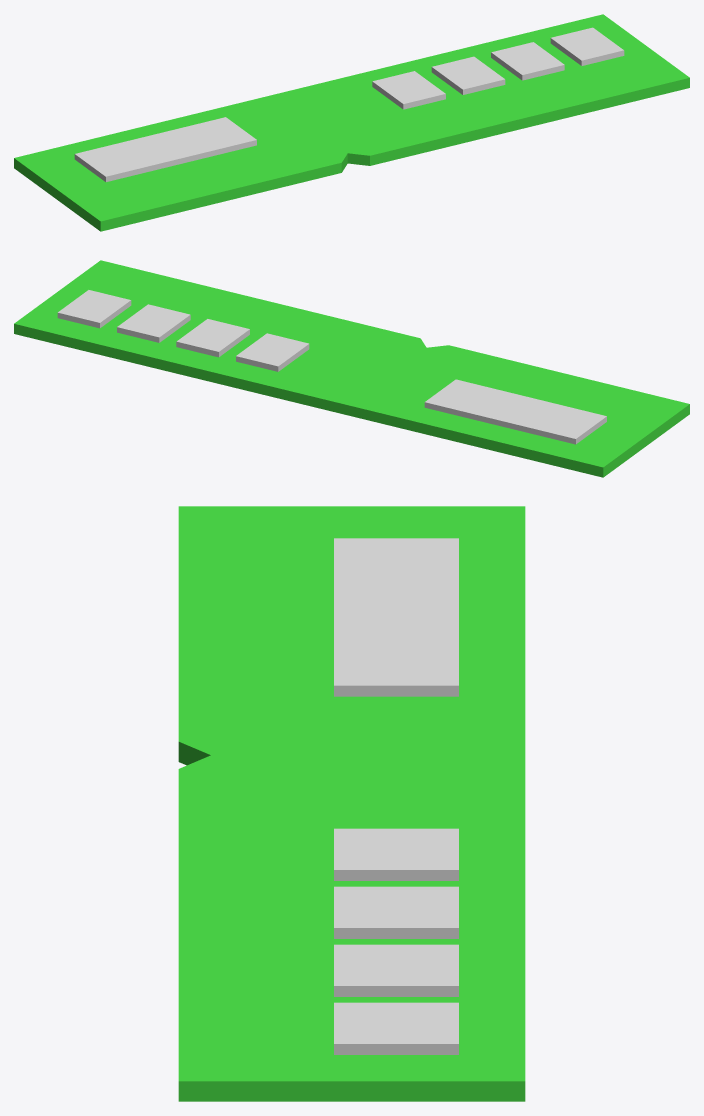
File: ramnew.fbx
3 views of the same model, one above another, from view 1: azimuth 30°, elevation 25°; view 2: azimuth 150°, elevation 25°; view 3: azimuth 270°, elevation 25° (orthographic). The views are drawn at different scales.
Parts seen in each view (by area): view 1: Cube.001; view 2: Cube.001; view 3: Cube.001.
Boxes of the visible parts, x1,y1,x2,y2 form: Cube.001: [14, 14, 689, 231]; Cube.001: [14, 260, 689, 477]; Cube.001: [178, 506, 525, 1101].
Size of the model in its own units: 97.87 by 2.5 by 24.95.
